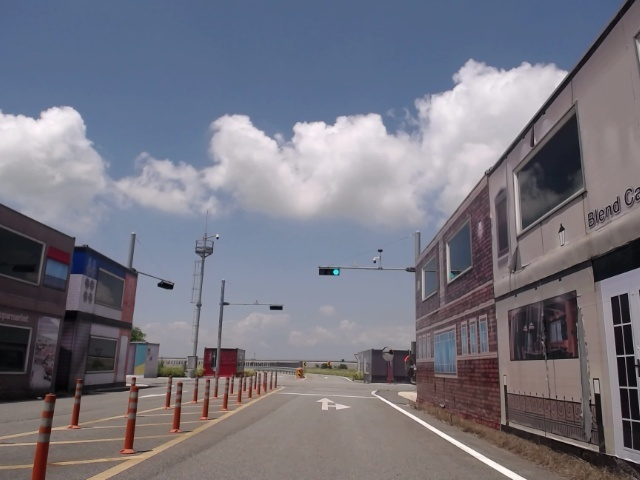green_3: (319, 267, 340, 276)
